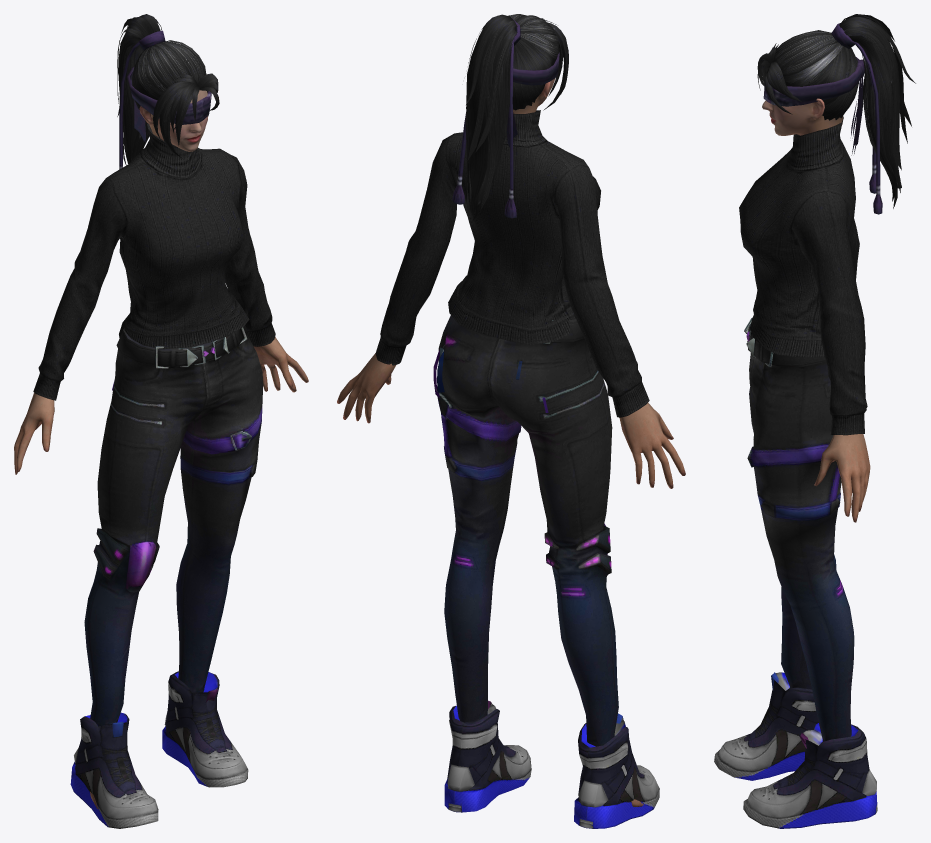
File: glbfile.glb
The picture shows the model from 3 angles, left to right: view 1: azimuth 30°, elevation 25°; view 2: azimuth 150°, elevation 25°; view 3: azimuth 270°, elevation 25°; orthographic projection. The views are drawn at different scales.
Visible parts, largest first — view 1: Object_4, Object_7, Object_5, Object_2, Object_6, Object_3; view 2: Object_4, Object_7, Object_5, Object_2, Object_6, Object_3; view 3: Object_4, Object_7, Object_5, Object_2, Object_6, Object_3.
Boxes of the visible parts, bbox=[...] form: Object_4: bbox=[84, 325, 263, 726]; Object_7: bbox=[33, 123, 275, 400]; Object_5: bbox=[70, 671, 248, 828]; Object_2: bbox=[117, 14, 219, 165]; Object_6: bbox=[14, 90, 308, 809]; Object_3: bbox=[119, 30, 211, 169]; Object_4: bbox=[433, 315, 618, 746]; Object_7: bbox=[375, 110, 649, 417]; Object_5: bbox=[444, 700, 659, 828]; Object_2: bbox=[465, 14, 568, 220]; Object_6: bbox=[337, 78, 685, 806]; Object_3: bbox=[452, 18, 559, 218]; Object_4: bbox=[744, 317, 854, 741]; Object_7: bbox=[739, 116, 867, 435]; Object_5: bbox=[714, 672, 877, 828]; Object_2: bbox=[757, 14, 915, 208]; Object_6: bbox=[762, 98, 870, 522]; Object_3: bbox=[763, 23, 882, 214].
Size of the model in its own units: 2.08 by 4.85 by 1.13.
6 materials, 6 textured.
